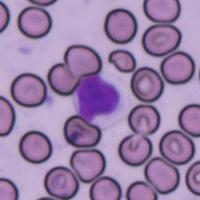M: (73, 72, 131, 128)
